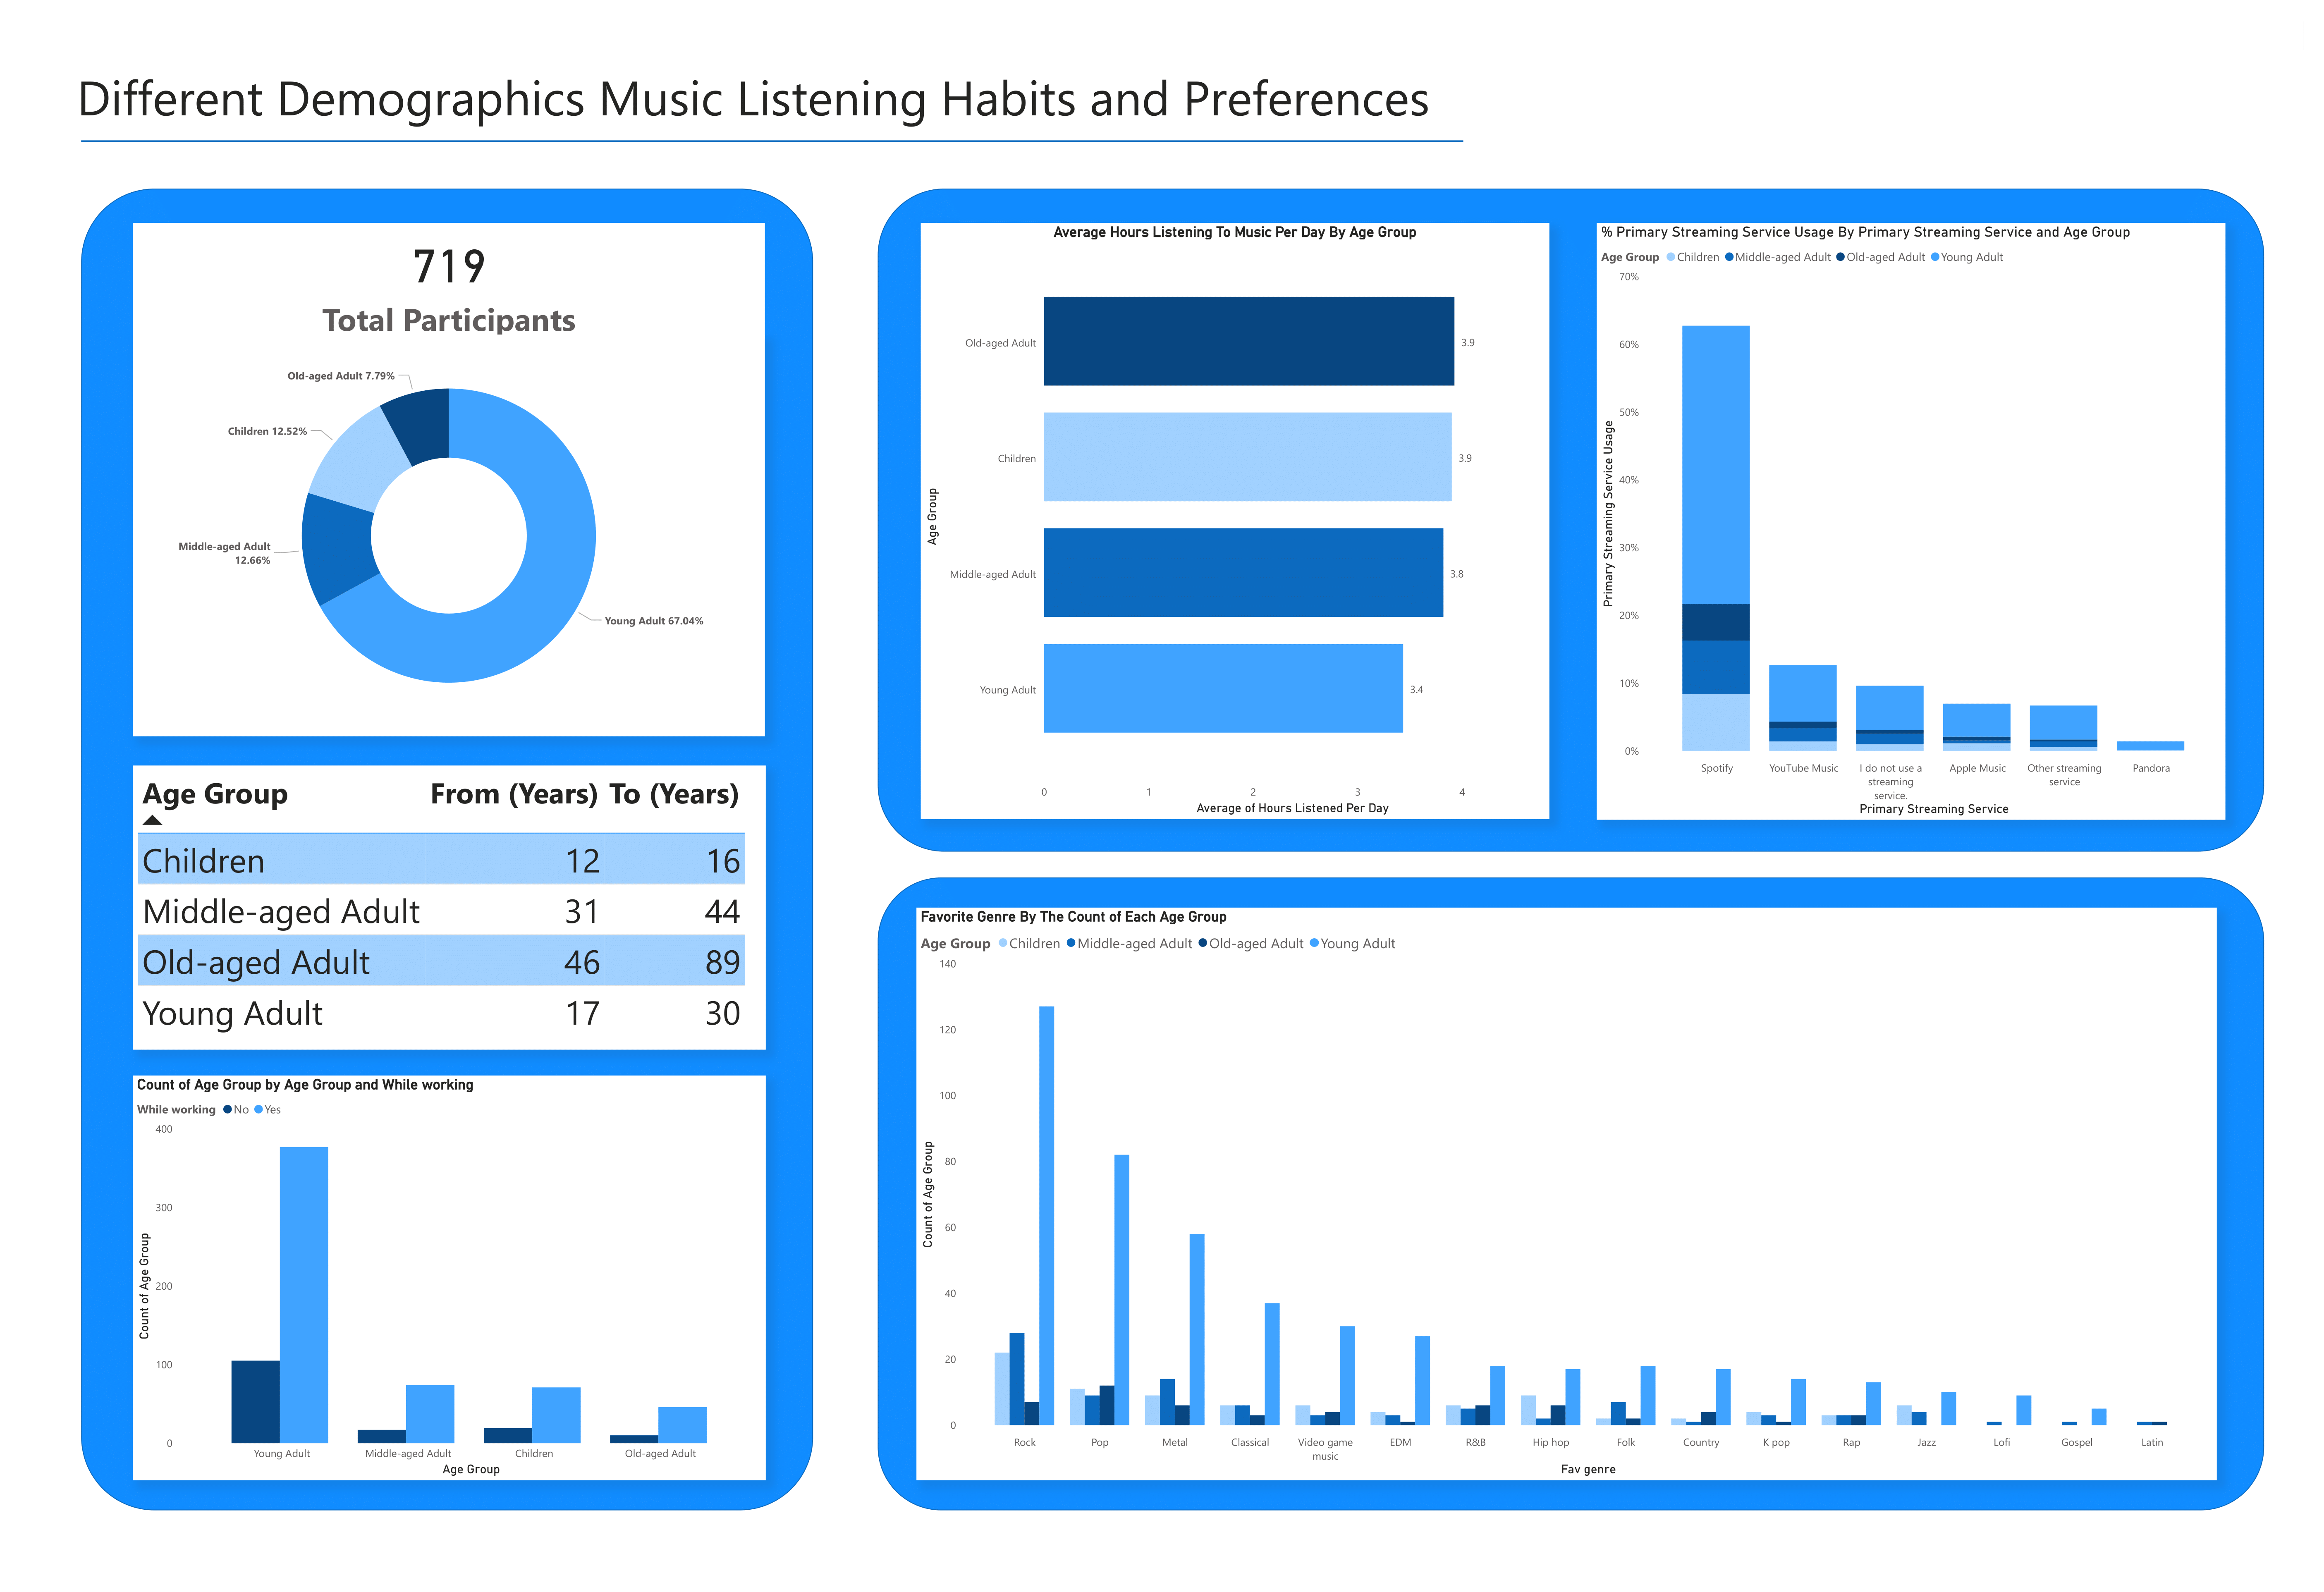

This screenshot's page, from the dashboard's own definition file:
{"tool":"powerbi","page":{"name":"Page 1","canvas":[2650,1800],"ordinal":0},"visuals":[{"type":"shape","box":[995,995,1610,735],"z":0},{"type":"shape","box":[68.8,192.5,850,1535],"z":1000},{"type":"clusteredColumnChart","title":"Favorite Genre By The Count of Each Age Group","fields":{"Category":["Cleaned_Music_and_Therapy_Survey.Fav genre"],"Y":["CountNonNull(Cleaned_Music_and_Therapy_Survey.Age Group)"],"Series":["Cleaned_Music_and_Therapy_Survey.Age Group"]},"box":[1041.2,1030,1510,665],"z":2000},{"type":"shape","box":[995,194.1,1610,770],"z":3000},{"type":"clusteredBarChart","title":"Average Hours Listening To Music Per Day By Age Group","fields":{"Category":["Cleaned_Music_and_Therapy_Survey.Age Group"],"Y":["Avg(Cleaned_Music_and_Therapy_Survey.Hours per day)"]},"box":[1043.8,233.1,730,692],"z":4000},{"type":"donutChart","title":"Participants Divided By Age Group","fields":{"Category":["Cleaned_Music_and_Therapy_Survey.Age Group"],"Y":["CountNonNull(Cleaned_Music_and_Therapy_Survey.Age Group)"]},"box":[128.2,364.5,734,466],"z":5000},{"type":"card","fields":{"Values":["Cleaned_Music_and_Therapy_Survey.Total Participants"]},"box":[128.2,234.5,734,134],"z":6000},{"type":"columnChart","title":"% Primary Streaming Service Usage  By Primary Streaming Service and Age Group","fields":{"Category":["Cleaned_Music_and_Therapy_Survey.Primary streaming service"],"Y":["CountNonNull(Cleaned_Music_and_Therapy_Survey.Primary streaming service)"],"Series":["Cleaned_Music_and_Therapy_Survey.Age Group"]},"box":[1830.8,232.8,729.6,692.6],"z":7000},{"type":"tableEx","fields":{"Values":["Cleaned_Music_and_Therapy_Survey.Age Group","Min(Cleaned_Music_and_Therapy_Survey.Age)","Max(Cleaned_Music_and_Therapy_Survey.Age)1"]},"box":[127.8,862.5,735,330],"z":8000},{"type":"clusteredColumnChart","fields":{"Category":["Cleaned_Music_and_Therapy_Survey.Age Group"],"Series":["Cleaned_Music_and_Therapy_Survey.While working"],"Y":["CountNonNull(Cleaned_Music_and_Therapy_Survey.Age Group)"]},"box":[127.8,1222.5,735,470],"z":9000},{"type":"textbox","box":[60,45,1605,95],"z":10000},{"type":"shape","box":[70,65,1605,150],"z":11000}]}

Visuals, with their boxes in screenshot pixels (x1, y1, x2, y2):
shape: x1=878 y1=878 x2=2264 y2=1511
shape: x1=80 y1=186 x2=812 y2=1509
"Favorite Genre By The Count of Each Age Group" clusteredColumnChart: x1=918 y1=908 x2=2218 y2=1481
shape: x1=878 y1=188 x2=2264 y2=851
"Average Hours Listening To Music Per Day By Age Group" clusteredBarChart: x1=920 y1=222 x2=1549 y2=818
"Participants Divided By Age Group" donutChart: x1=131 y1=335 x2=763 y2=736
card - Cleaned_Music_and_Therapy_Survey.Total Participants: x1=131 y1=223 x2=763 y2=338
"% Primary Streaming Service Usage  By Primary Streaming Service and Age Group" columnChart: x1=1598 y1=221 x2=2226 y2=818
tableEx - Cleaned_Music_and_Therapy_Survey.Age Group x Min(Cleaned_Music_and_Therapy_Survey.Age): x1=131 y1=764 x2=764 y2=1048
clusteredColumnChart - Cleaned_Music_and_Therapy_Survey.Age Group x Cleaned_Music_and_Therapy_Survey.While working: x1=131 y1=1074 x2=764 y2=1479
textbox: x1=72 y1=60 x2=1455 y2=141
shape: x1=81 y1=76 x2=1463 y2=206
